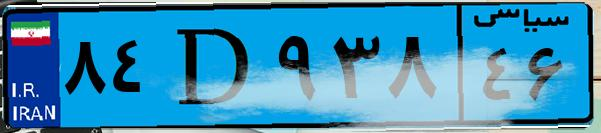3: (330, 28, 385, 110)
4: (475, 38, 525, 113), (110, 28, 158, 98)
6: (525, 38, 570, 115)
8: (385, 28, 445, 110), (57, 26, 110, 100)
9: (270, 28, 330, 110)
D: (158, 12, 270, 120)
